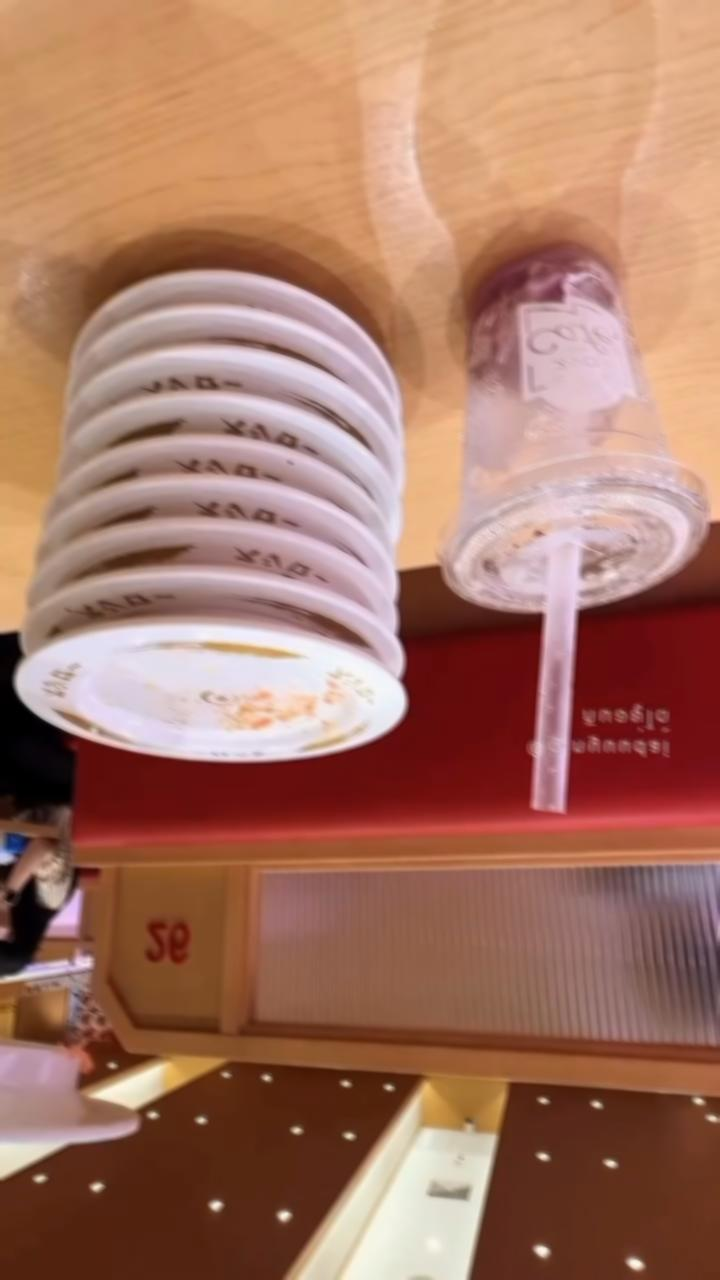Janwhite: (17, 619, 422, 748), (40, 574, 396, 620), (54, 519, 374, 567), (92, 272, 378, 321), (65, 480, 358, 514), (79, 442, 349, 476), (85, 400, 345, 434), (91, 360, 359, 392), (101, 324, 339, 353)
